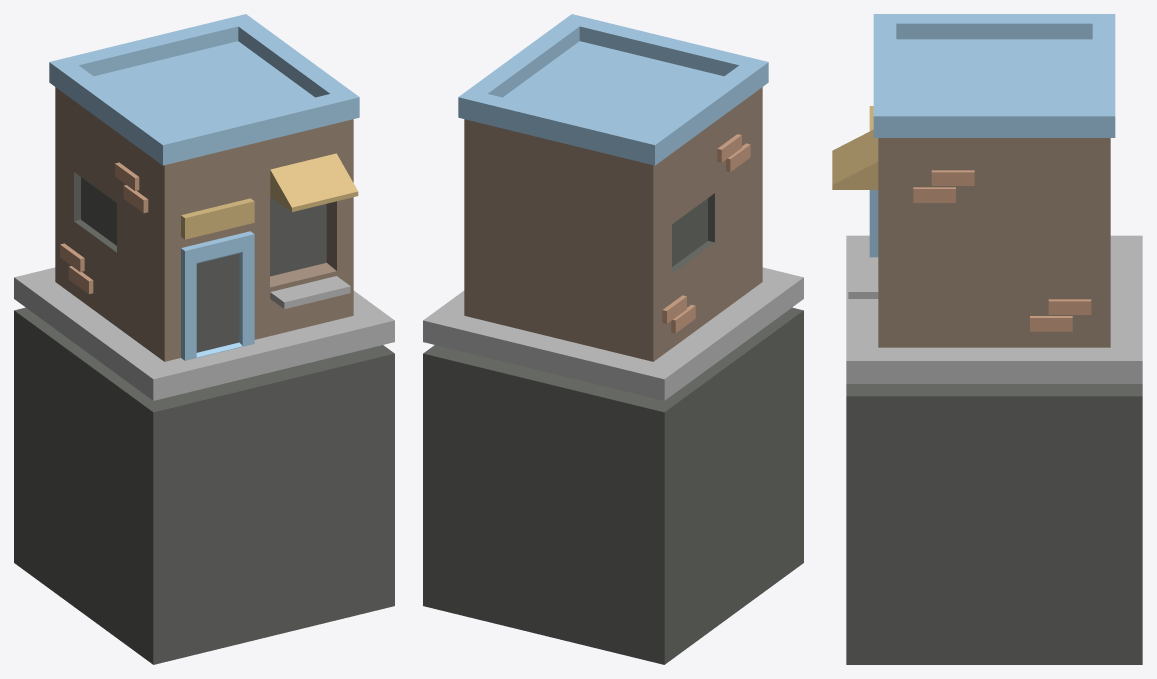
File: house_Block_orign_b.fbx
The picture shows the model from 3 angles, left to right: view 1: azimuth 30°, elevation 25°; view 2: azimuth 150°, elevation 25°; view 3: azimuth 270°, elevation 25°; orthographic projection. The views are drawn at different scales.
Parts seen in each view (by area): view 1: floor_base, polySurface6, house2, house, polySurface4, polySurface8, polySurface5, polySurface9; view 2: floor_base, polySurface6, house2, house; view 3: floor_base, polySurface6, house2, house, polySurface8, polySurface9, polySurface54, polySurface56, polySurface55, polySurface57, polySurface4.
Boxes of the visible parts, left/top/right/bottom form: floor_base: left=14, top=307, right=394, bottom=664; polySurface6: left=55, top=87, right=353, bottom=361; house2: left=49, top=14, right=359, bottom=165; house: left=14, top=267, right=394, bottom=400; polySurface4: left=181, top=231, right=254, bottom=360; polySurface8: left=270, top=153, right=358, bottom=211; polySurface5: left=181, top=198, right=254, bottom=239; polySurface9: left=270, top=276, right=350, bottom=309; floor_base: left=423, top=307, right=803, bottom=664; polySurface6: left=464, top=87, right=762, bottom=361; house2: left=458, top=14, right=768, bottom=165; house: left=423, top=267, right=803, bottom=400; floor_base: left=846, top=384, right=1142, bottom=664; polySurface6: left=878, top=138, right=1110, bottom=347; house2: left=873, top=14, right=1115, bottom=137; house: left=846, top=235, right=1142, bottom=383; polySurface8: left=832, top=129, right=878, bottom=189; polySurface9: left=848, top=257, right=878, bottom=298; polySurface54: left=931, top=170, right=974, bottom=185; polySurface56: left=1048, top=299, right=1091, bottom=314; polySurface55: left=913, top=187, right=955, bottom=202; polySurface57: left=1030, top=316, right=1072, bottom=331; polySurface4: left=869, top=190, right=878, bottom=257.
Bounding box in the file's own units: 5 × 10 × 5.23.
